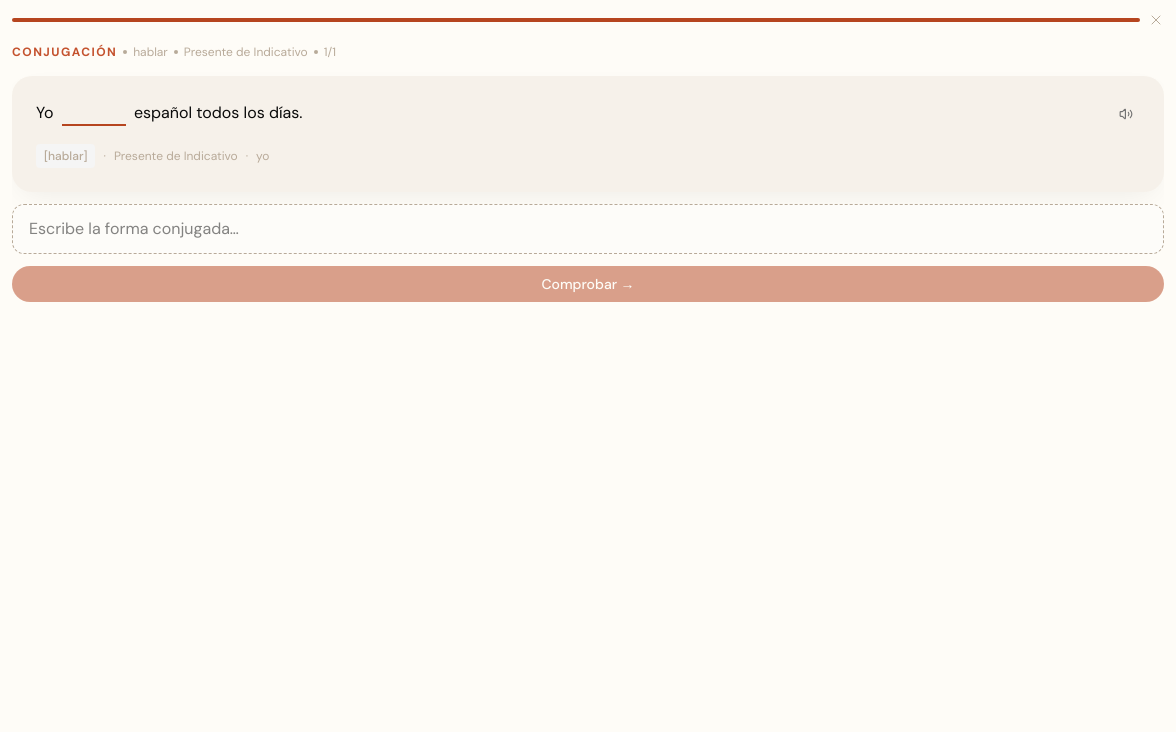
Test: VerbSession › shows incorrect feedback, hides input, and shows try again
Type "hablas" into the field with placeholder "Escribe la forma conjugada…" at (588, 229), box [29,217,1147,241]
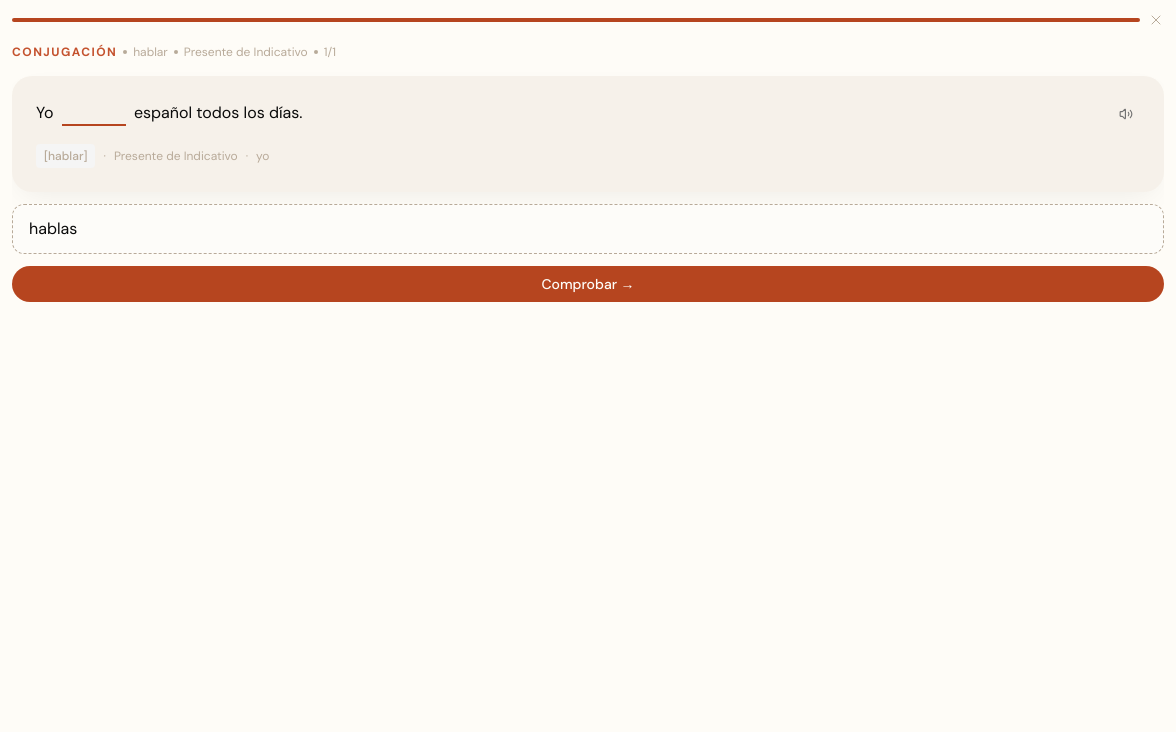
Click the button "Comprobar →" at (588, 284), box [12,266,1164,302]
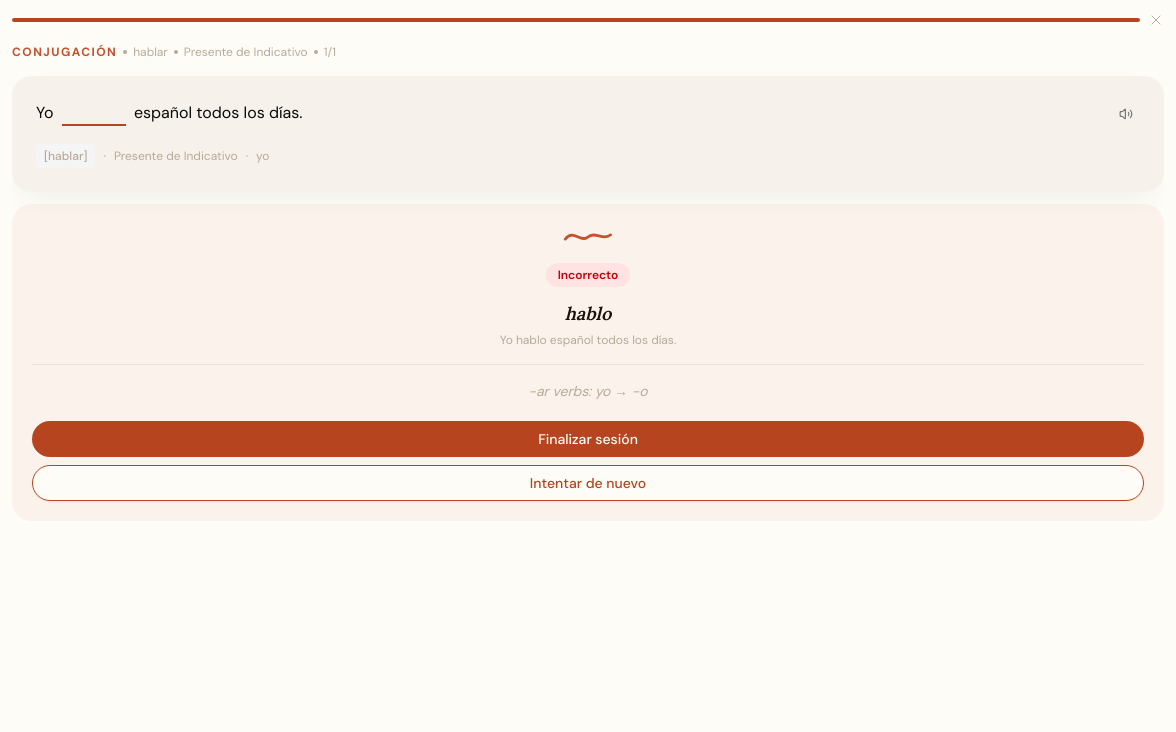
Check: the field with placeholder "Escribe la forma conjugada" is not shown
Check: the text "Incorrecto" is shown, box [546,263,630,287]
Check: the button with test id "try-again-btn" is shown, box [32,465,1144,501]
